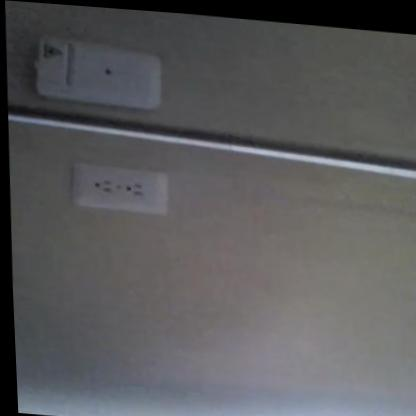OUTLET: (69, 162, 168, 214)
